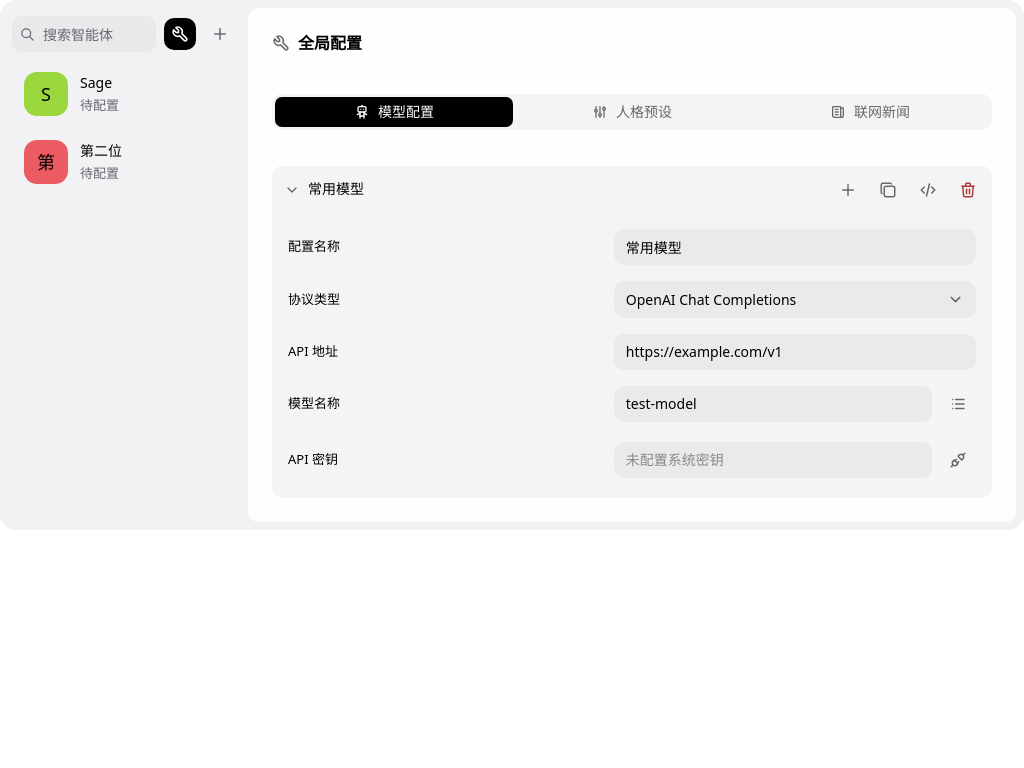
持久资源智能体页面 › 新建即排队写入合法默认配置，稳定 ID 与 null revision，不宣称已启动
The width and height of the screenshot is (1024, 768).
Expected: the field labelled "配置名称" is shown, [614,229,976,265]
Click the button named "新建智能体": (220, 34) [204,18,236,50]
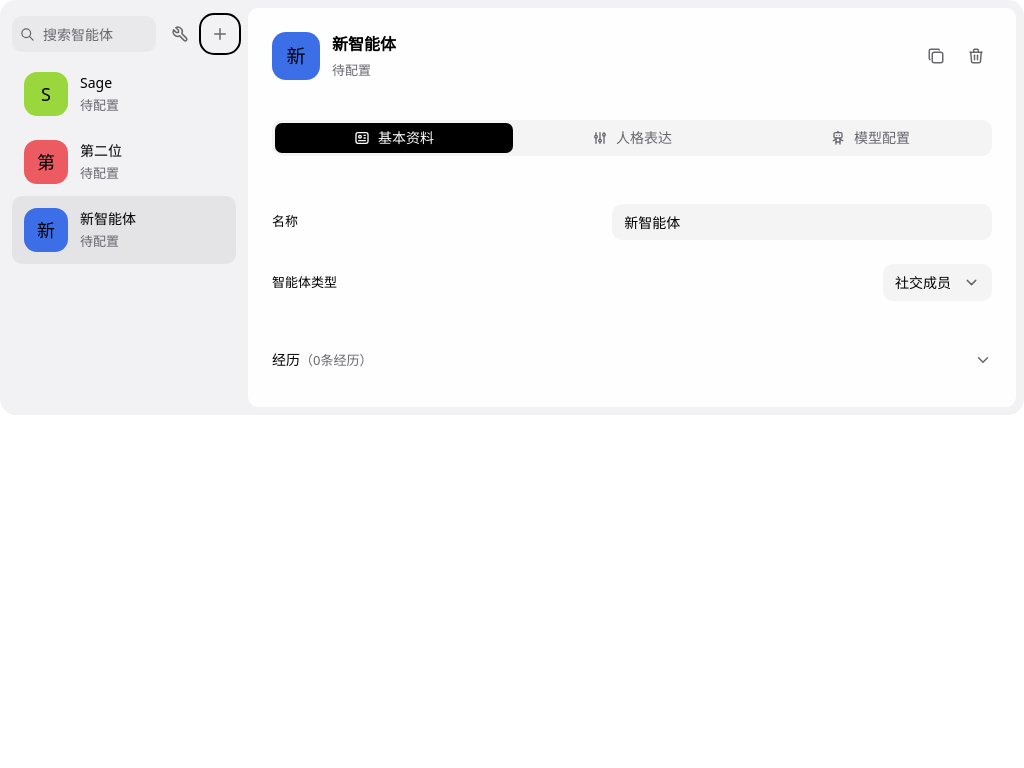
Expected: the heading "新智能体" is shown, [332,32,396,56]
Expected: the message reads "待配置", [332,61,371,79]
Expected: the button "新 新智能体 待配置" is shown, [12,196,236,264]
